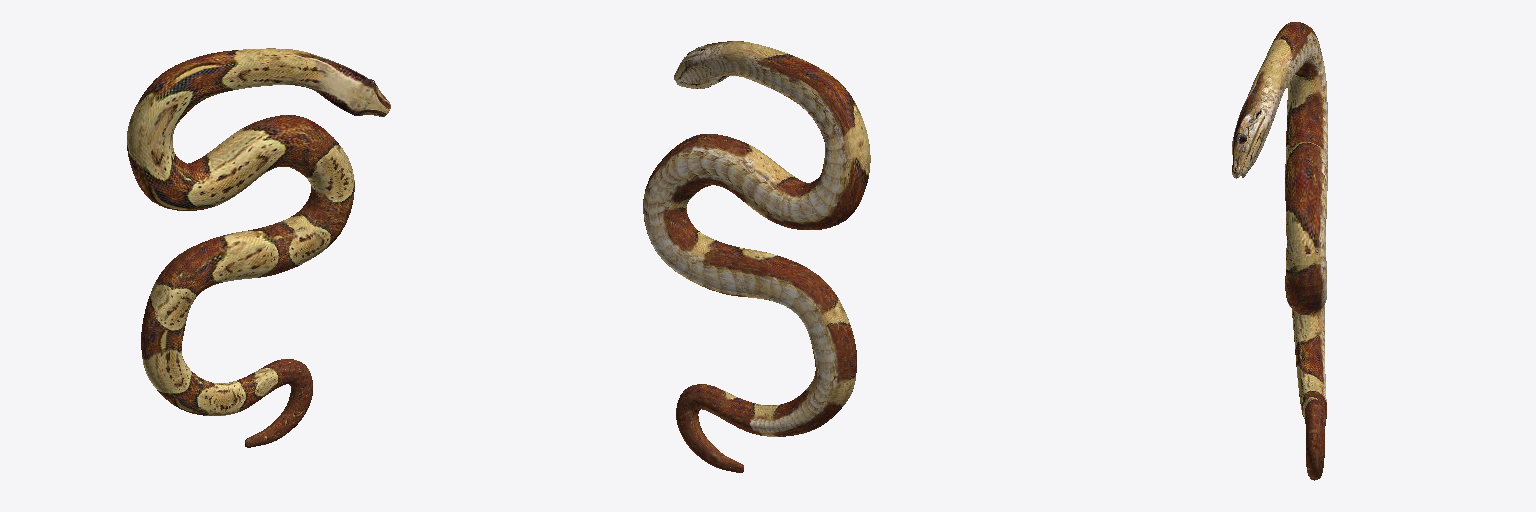
3 views of the same model, side by side, from view 1: azimuth 30°, elevation 25°; view 2: azimuth 150°, elevation 25°; view 3: azimuth 270°, elevation 25° (orthographic).
Visible parts, largest first — view 1: 10049_BoaConstrictor_v04; view 2: 10049_BoaConstrictor_v04; view 3: 10049_BoaConstrictor_v04.
Part boxes in pixels (x1,y1,x2,y2): 10049_BoaConstrictor_v04: (127, 48, 390, 447); 10049_BoaConstrictor_v04: (643, 41, 870, 472); 10049_BoaConstrictor_v04: (1232, 22, 1327, 480).
Size of the model in its own units: 58.17 by 102 by 21.41.
Materials: 1 (1 with a texture image).